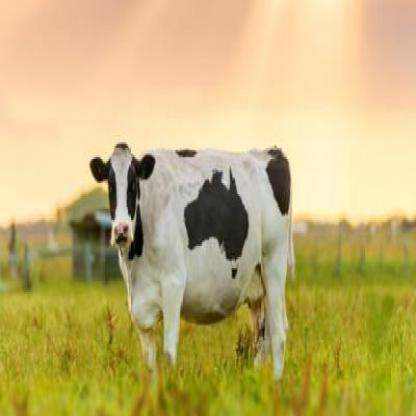lower: (119, 242, 128, 248)
mouth: (110, 221, 133, 250)
upper: (117, 226, 128, 236)
